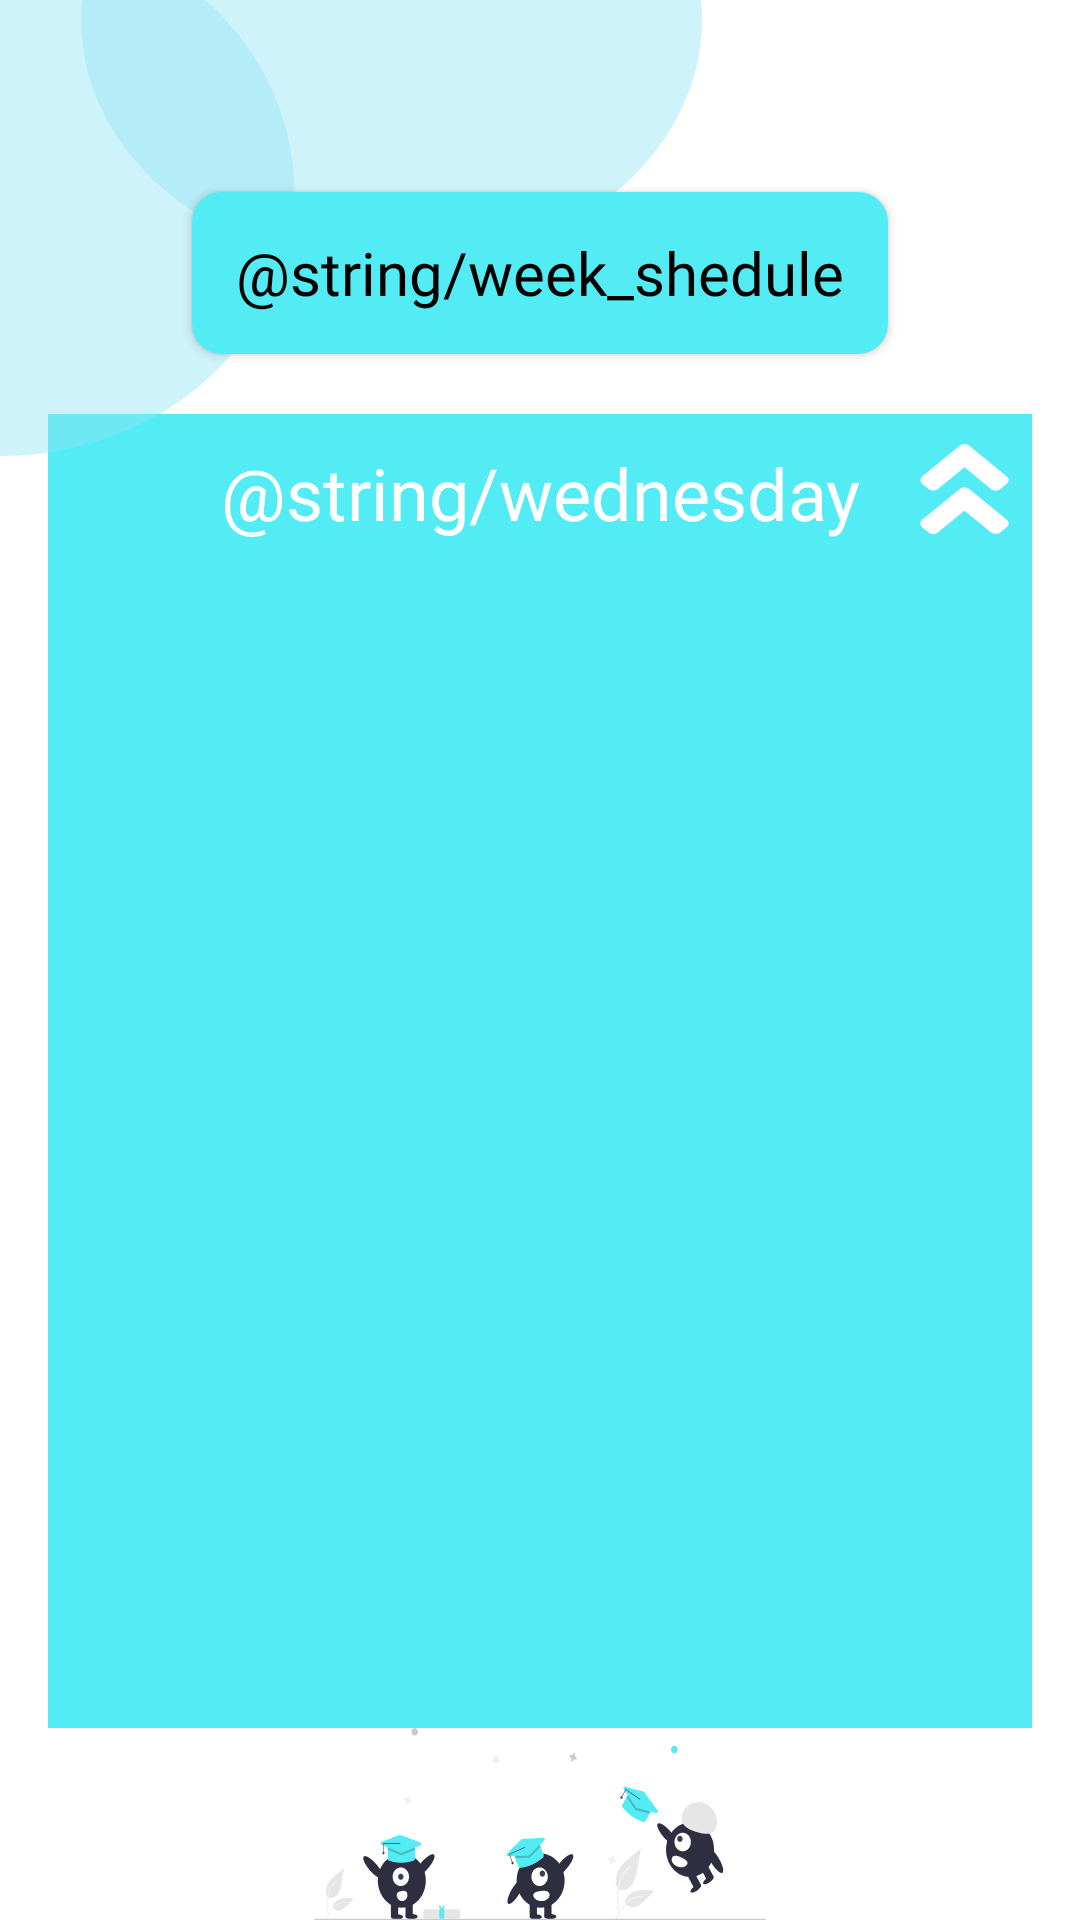

Named icons in this screenshot (1080 × 1920) and their bounding boxes, (x1, y1, x2, y2):
higher: (920, 444, 1009, 534)
